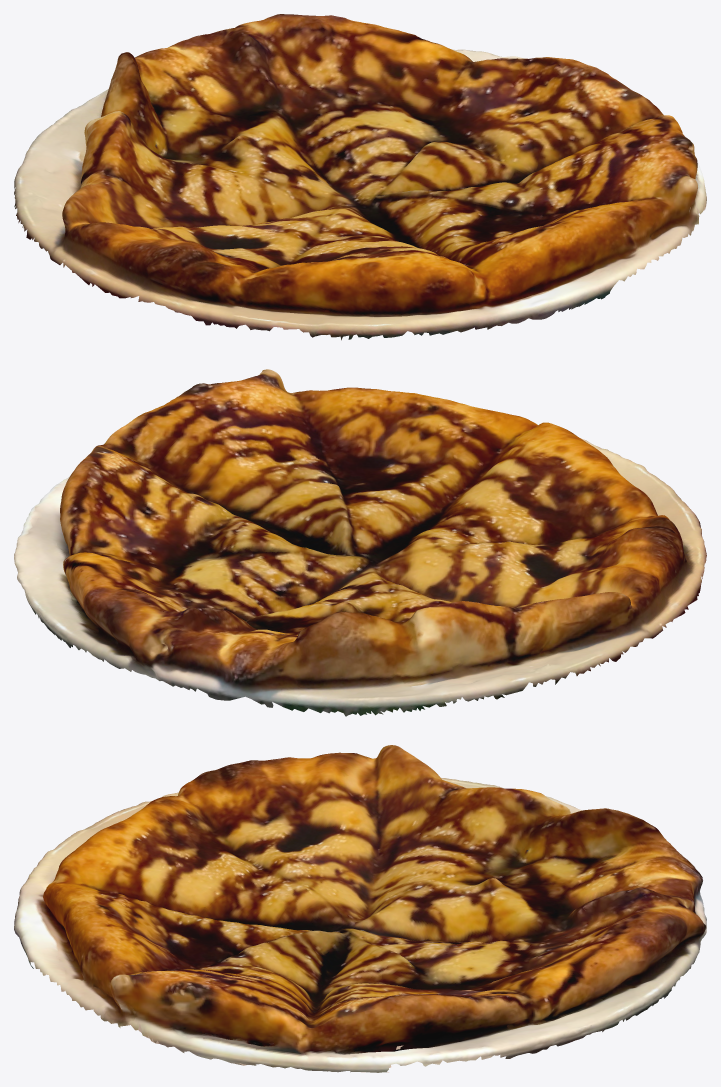
Rendered from chocolate_cheese_naan_scans_with_iphone12_pro.glb.
3 views of the same model, one above another, from view 1: azimuth 30°, elevation 25°; view 2: azimuth 150°, elevation 25°; view 3: azimuth 270°, elevation 25° (orthographic).
Parts seen in each view (by area): view 1: model_0; view 2: model_0; view 3: model_0.
Boxes of the visible parts, x1=… form: model_0: x1=14, y1=14, x2=706, y2=340; model_0: x1=14, y1=369, x2=706, y2=716; model_0: x1=14, y1=745, x2=706, y2=1072.
Size of the model in its own units: 3.68 by 0.4776 by 3.7.
Materials: 3 (3 with a texture image).
